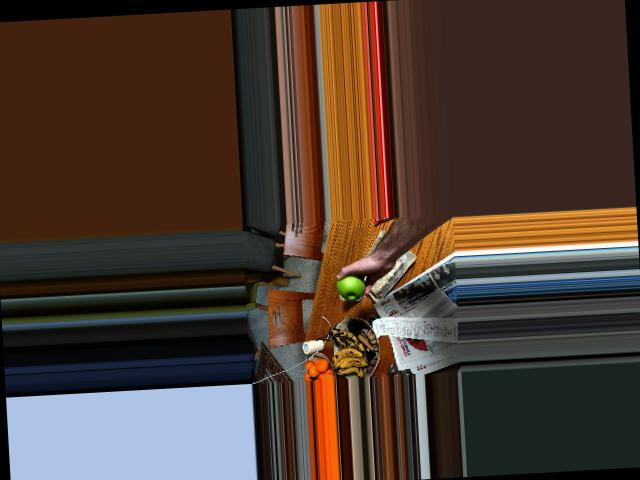apple: (334, 269, 369, 299)
